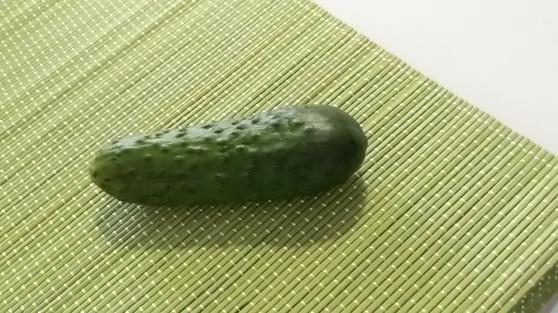cucumber: (83, 101, 368, 222)
